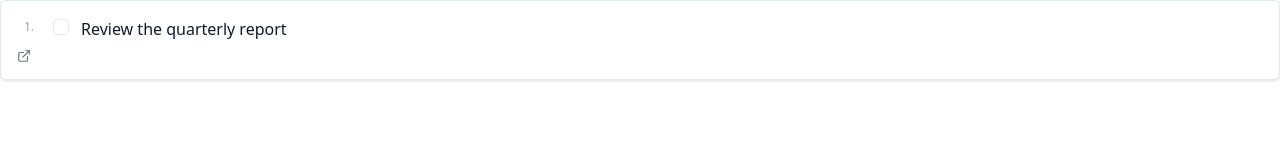
Test: TodoItem › Phase 2: Ordinal and Drag Handle Props › should render drag handle on hover when dragHandleProps is provided with ordinal
The image size is (1280, 160).
Expected: the text "1." is shown, x1=24 y1=19 x2=34 y2=35
Note: Hover on the header
Hover over the element with test id "todo-card-header" at {"x": 155, "y": 29}, box x1=24 y1=18 x2=287 y2=40
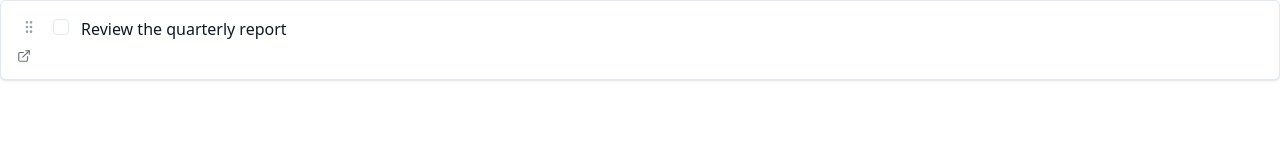
Now the button with test id "drag-handle" is shown, box x1=21 y1=19 x2=37 y2=35
